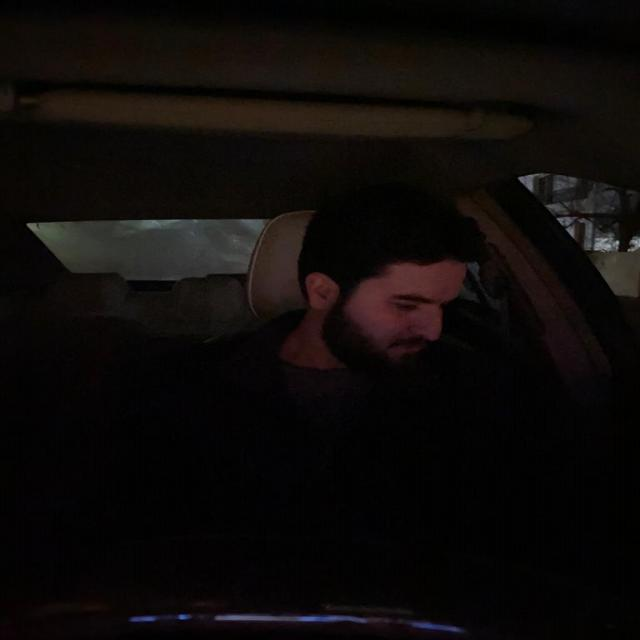drowsy: (302, 198, 481, 389)
